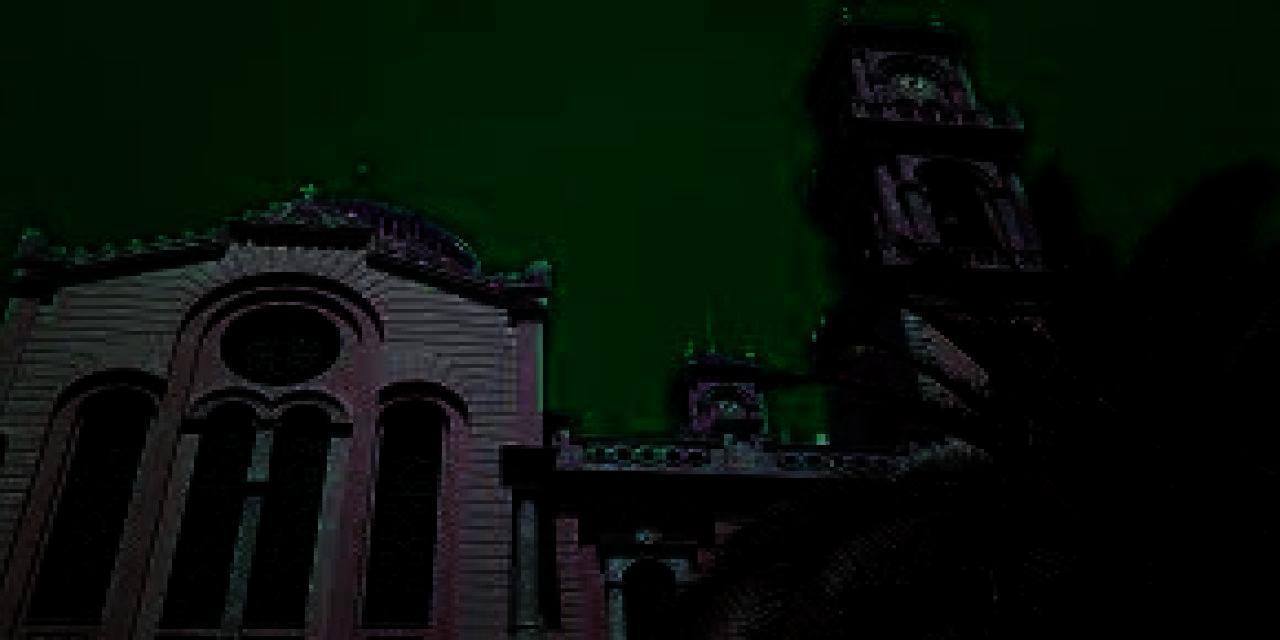Agios Minas: (1, 9, 1097, 640)
